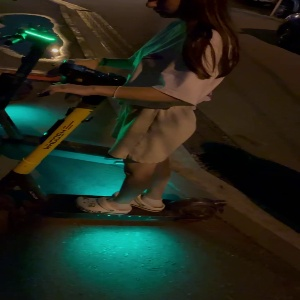human on a scooter: (1, 1, 241, 226)
